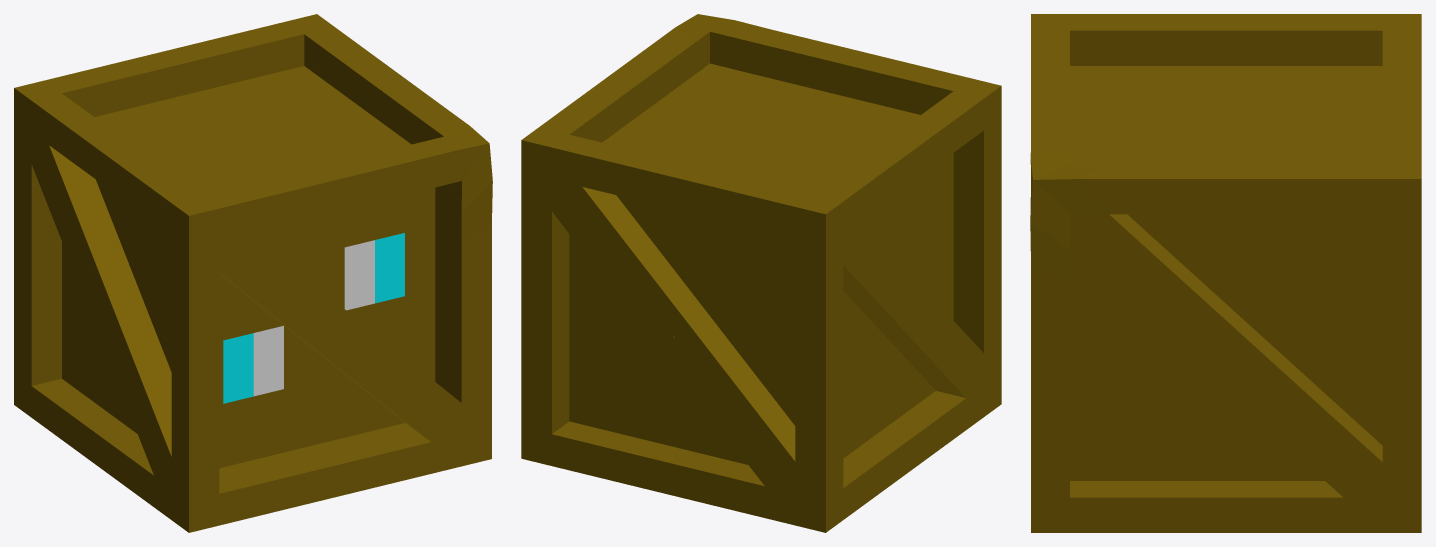
Rendered from Crate.fbx.
The picture shows the model from 3 angles, left to right: view 1: azimuth 30°, elevation 25°; view 2: azimuth 150°, elevation 25°; view 3: azimuth 270°, elevation 25°; orthographic projection. The views are drawn at different scales.
Visible parts, largest first — view 1: Cube; view 2: Cube; view 3: Cube.
Boxes of the visible parts, <box> form: Cube: <box>14,14,492,532</box>; Cube: <box>521,14,1001,532</box>; Cube: <box>1030,14,1421,532</box>.
Bounding box in the file's own units: 200 × 200 × 200.
